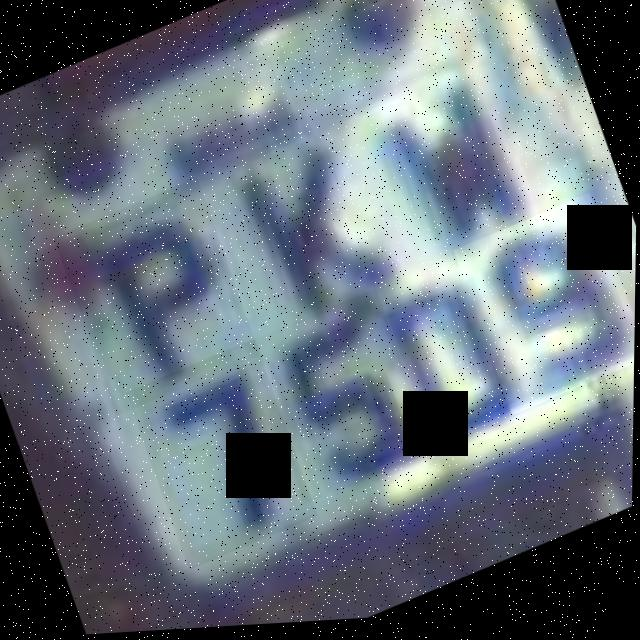0: (348, 243, 547, 480)
5: (243, 290, 437, 512)
7: (125, 338, 322, 575)
9: (453, 198, 637, 425)
K: (213, 112, 409, 349)
P: (52, 177, 264, 420)
